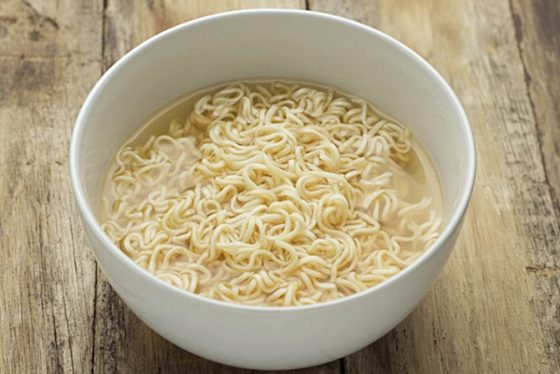Mie: (66, 65, 440, 328)
